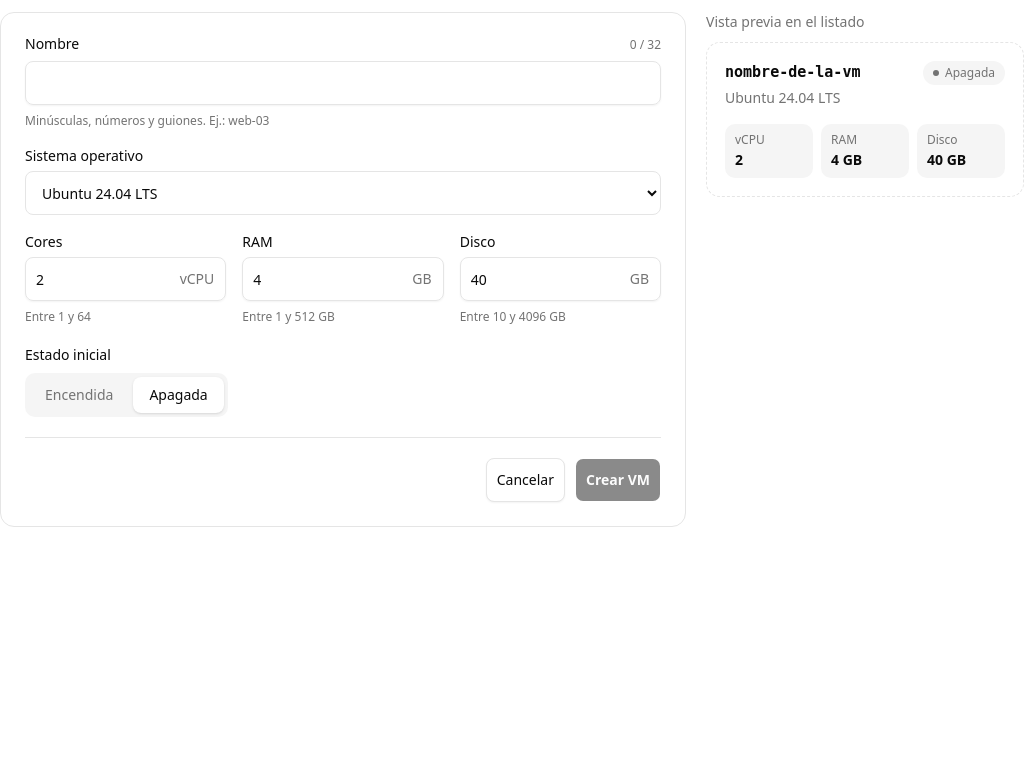
<VmForm> validación en tiempo real › muestra los errores mientras se escribe y bloquea el envío
This screenshot has width=1024, height=780.
Step 1. Type "Web_01" into the field labelled "Nombre" → [343, 83], box [25, 61, 661, 105]
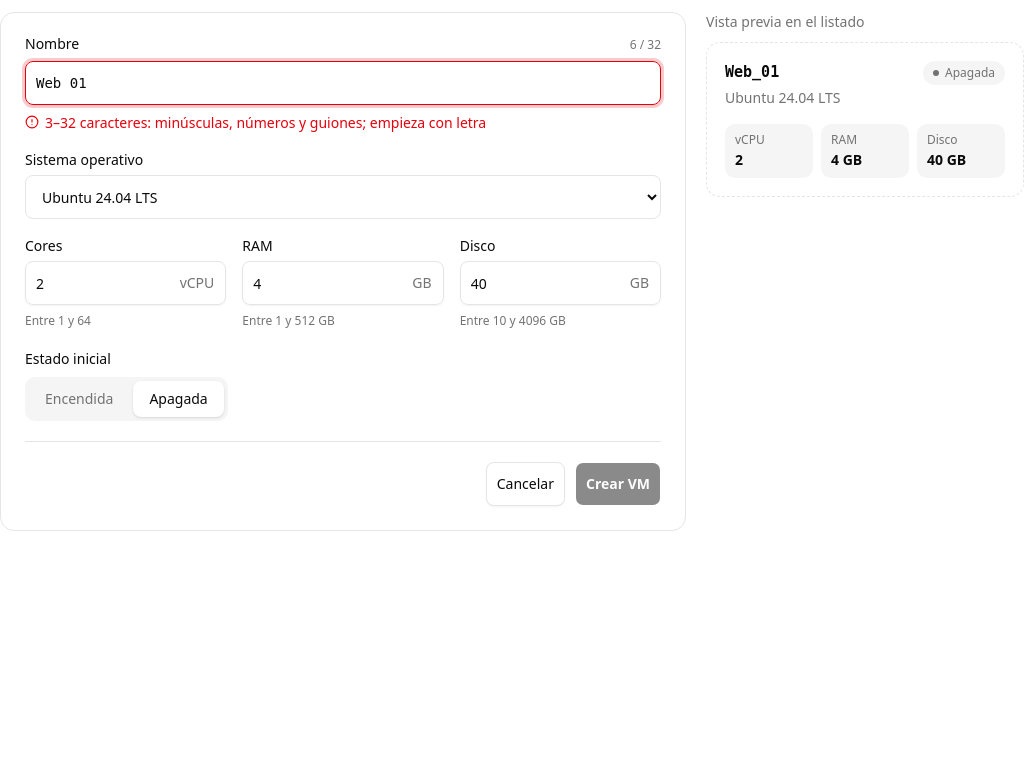
Expected: the button "Crear VM" is disabled, [575, 462, 661, 506]
Now the text "3–32 caracteres" is shown, box [45, 113, 486, 132]
Step 2. Replace the text in the field labelled "Nombre" with "web-01" → [343, 83], box [25, 61, 661, 105]
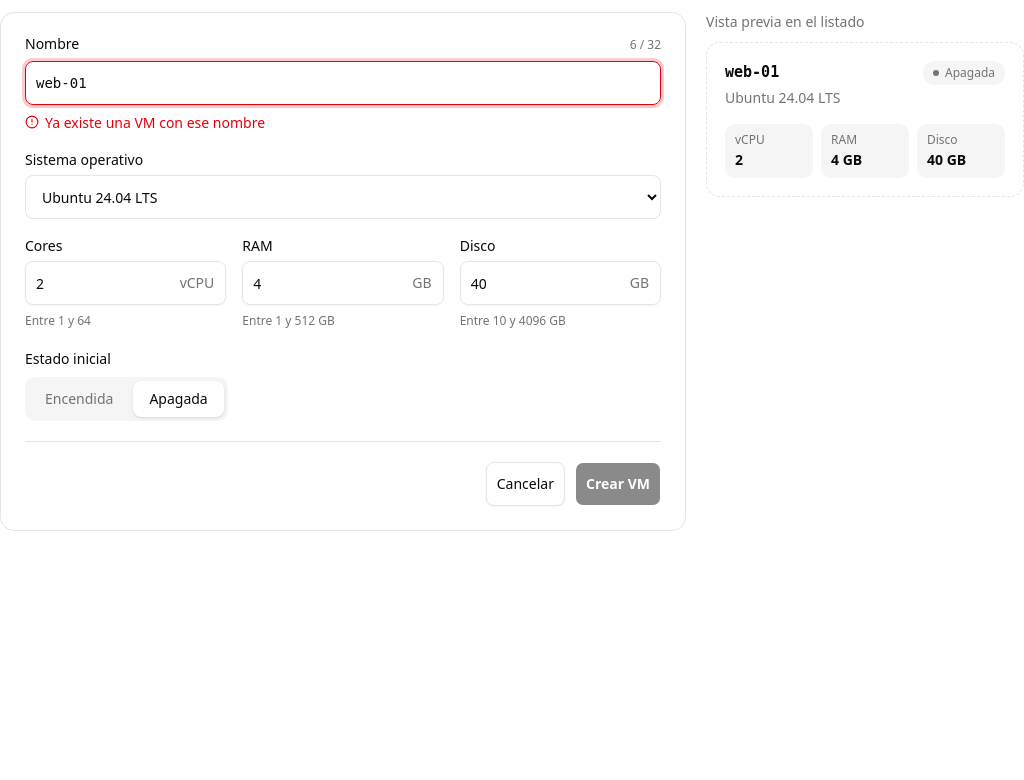
Now the text "Ya existe una VM con ese nombre" is shown, box [25, 113, 265, 132]
Step 3. Replace the text in the number field labelled "RAM" with "-4" → [343, 283], box [242, 261, 444, 305]
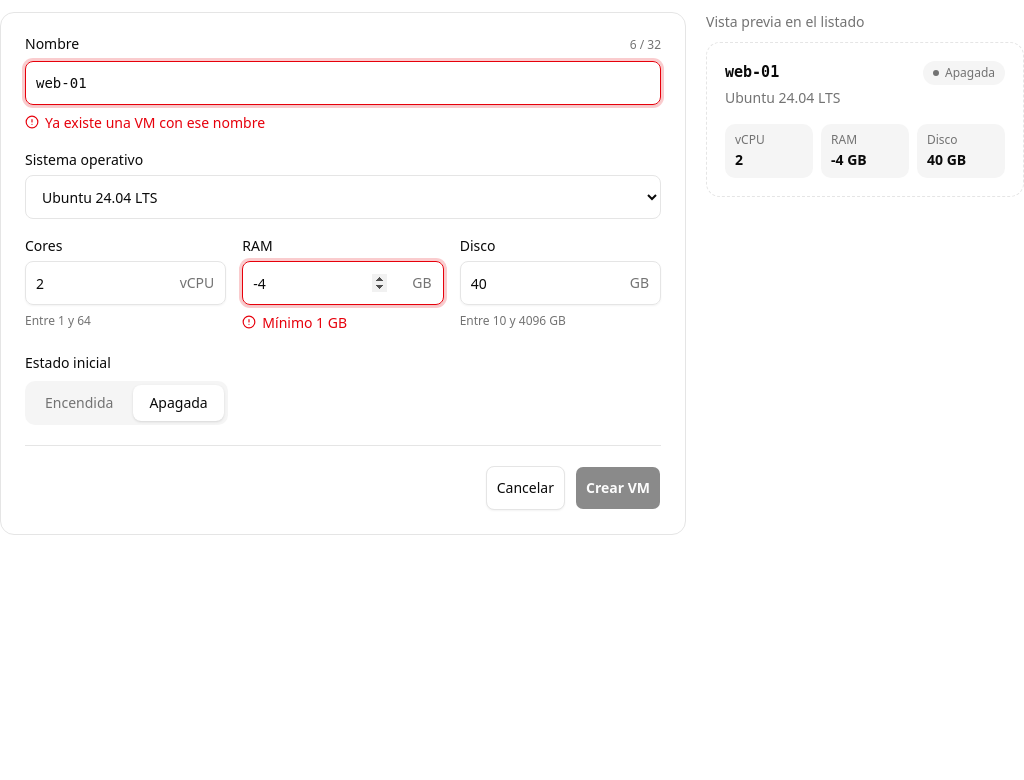
Now the text "Mínimo 1 GB" is shown, box [242, 313, 347, 332]
Step 4. Replace the text in the field labelled "Nombre" with "web-09" → [343, 83], box [25, 61, 661, 105]
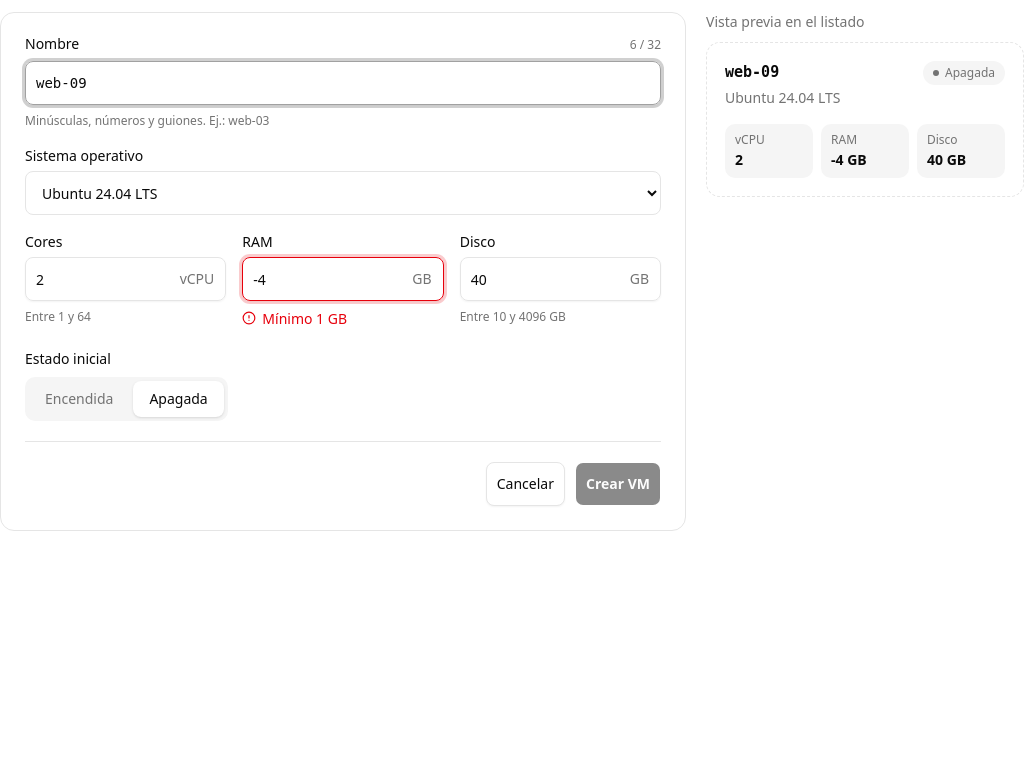
Step 5. Replace the text in the number field labelled "RAM" with "8" → [343, 279], box [242, 257, 444, 301]
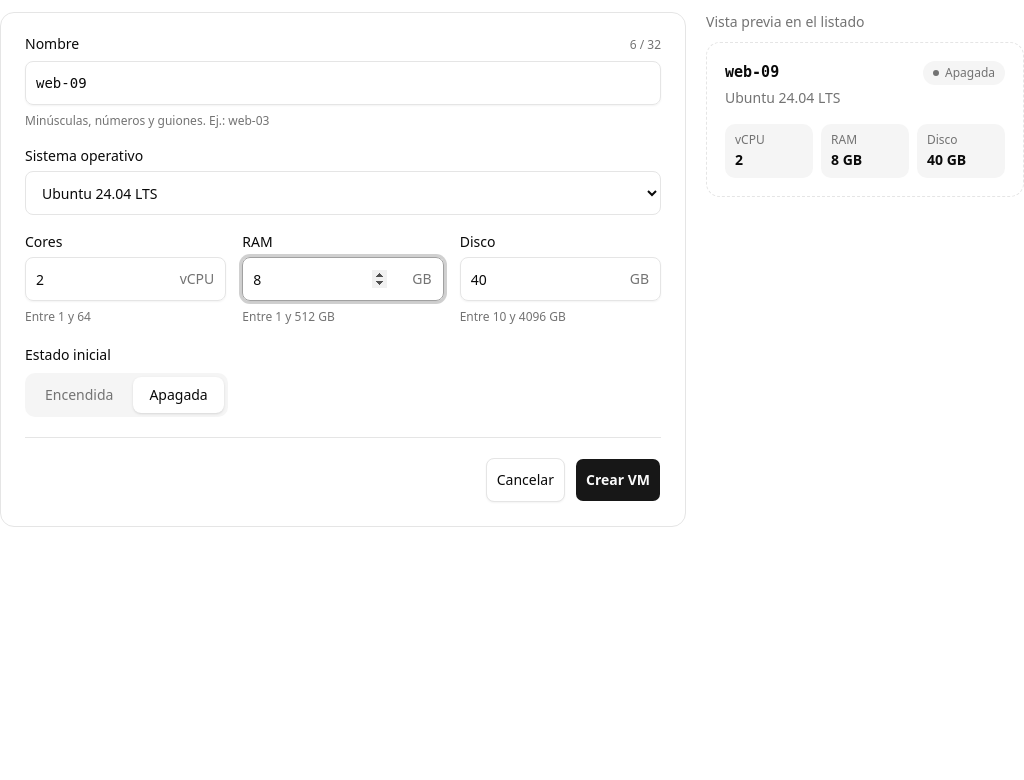
Now the button "Crear VM" is enabled, box [575, 458, 661, 502]
